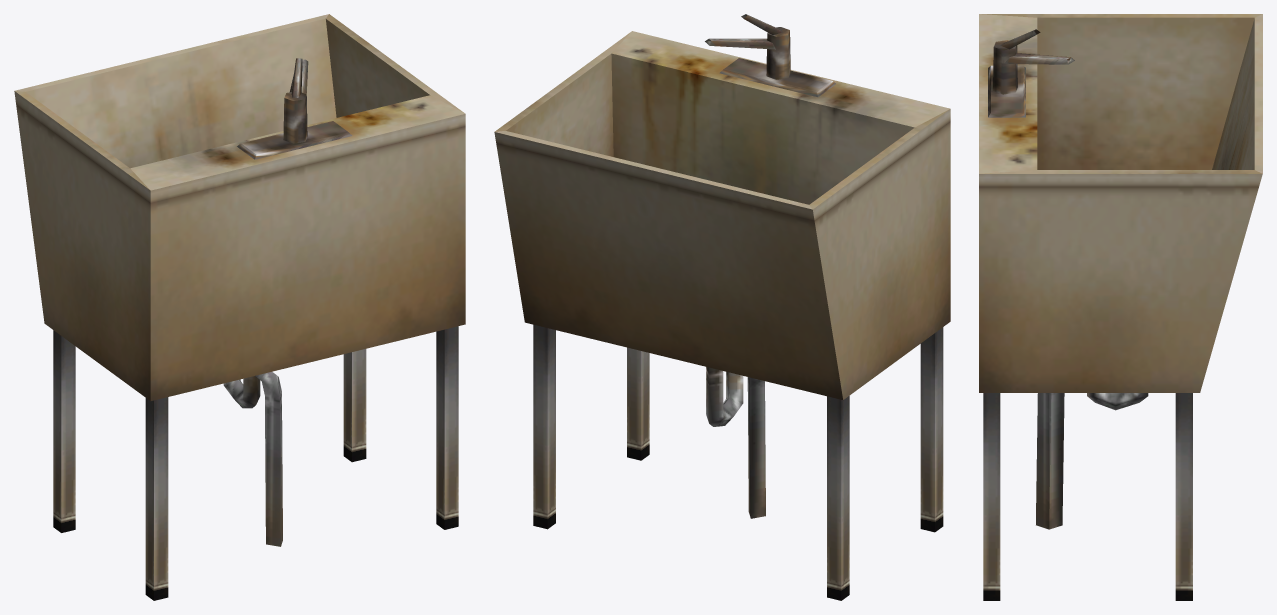
File: shopsink.fbx
The picture shows the model from 3 angles, left to right: view 1: azimuth 30°, elevation 25°; view 2: azimuth 150°, elevation 25°; view 3: azimuth 270°, elevation 25°; orthographic projection. The views are drawn at different scales.
Visible parts, largest first — view 1: mesh_0; view 2: mesh_0; view 3: mesh_0.
Part boxes in pixels (x1,y1,x2,y2): mesh_0: (14, 14, 465, 600); mesh_0: (494, 14, 950, 600); mesh_0: (979, 14, 1262, 600).
Bounding box in the file's own units: 80 × 118 × 60.
1 material, 1 textured.
